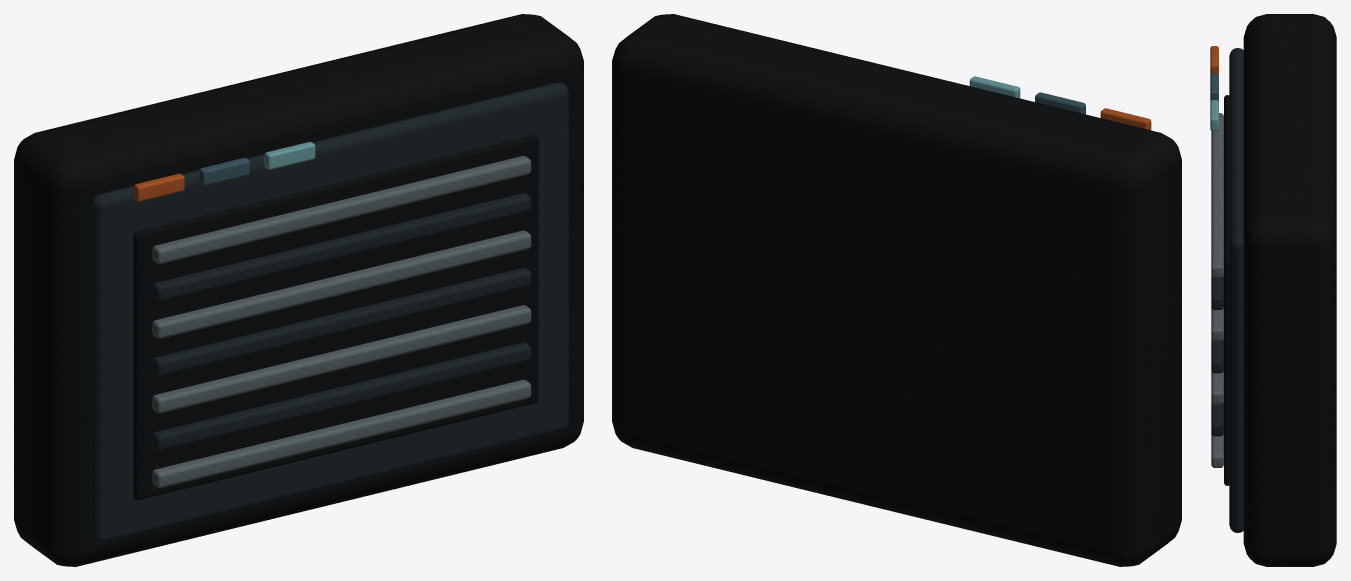
The model's file is WallVent.fbx.
The picture shows the model from 3 angles, left to right: view 1: azimuth 30°, elevation 25°; view 2: azimuth 150°, elevation 25°; view 3: azimuth 270°, elevation 25°; orthographic projection. The views are drawn at different scales.
Visible parts, largest first — view 1: WallVent_Mesh; view 2: WallVent_Mesh; view 3: WallVent_Mesh.
Part boxes in pixels (x1,y1,x2,y2): WallVent_Mesh: (14,14,583,566); WallVent_Mesh: (612,14,1181,566); WallVent_Mesh: (1210,14,1336,566).
Bounding box in the file's own units: 90 × 66 × 21.75.
